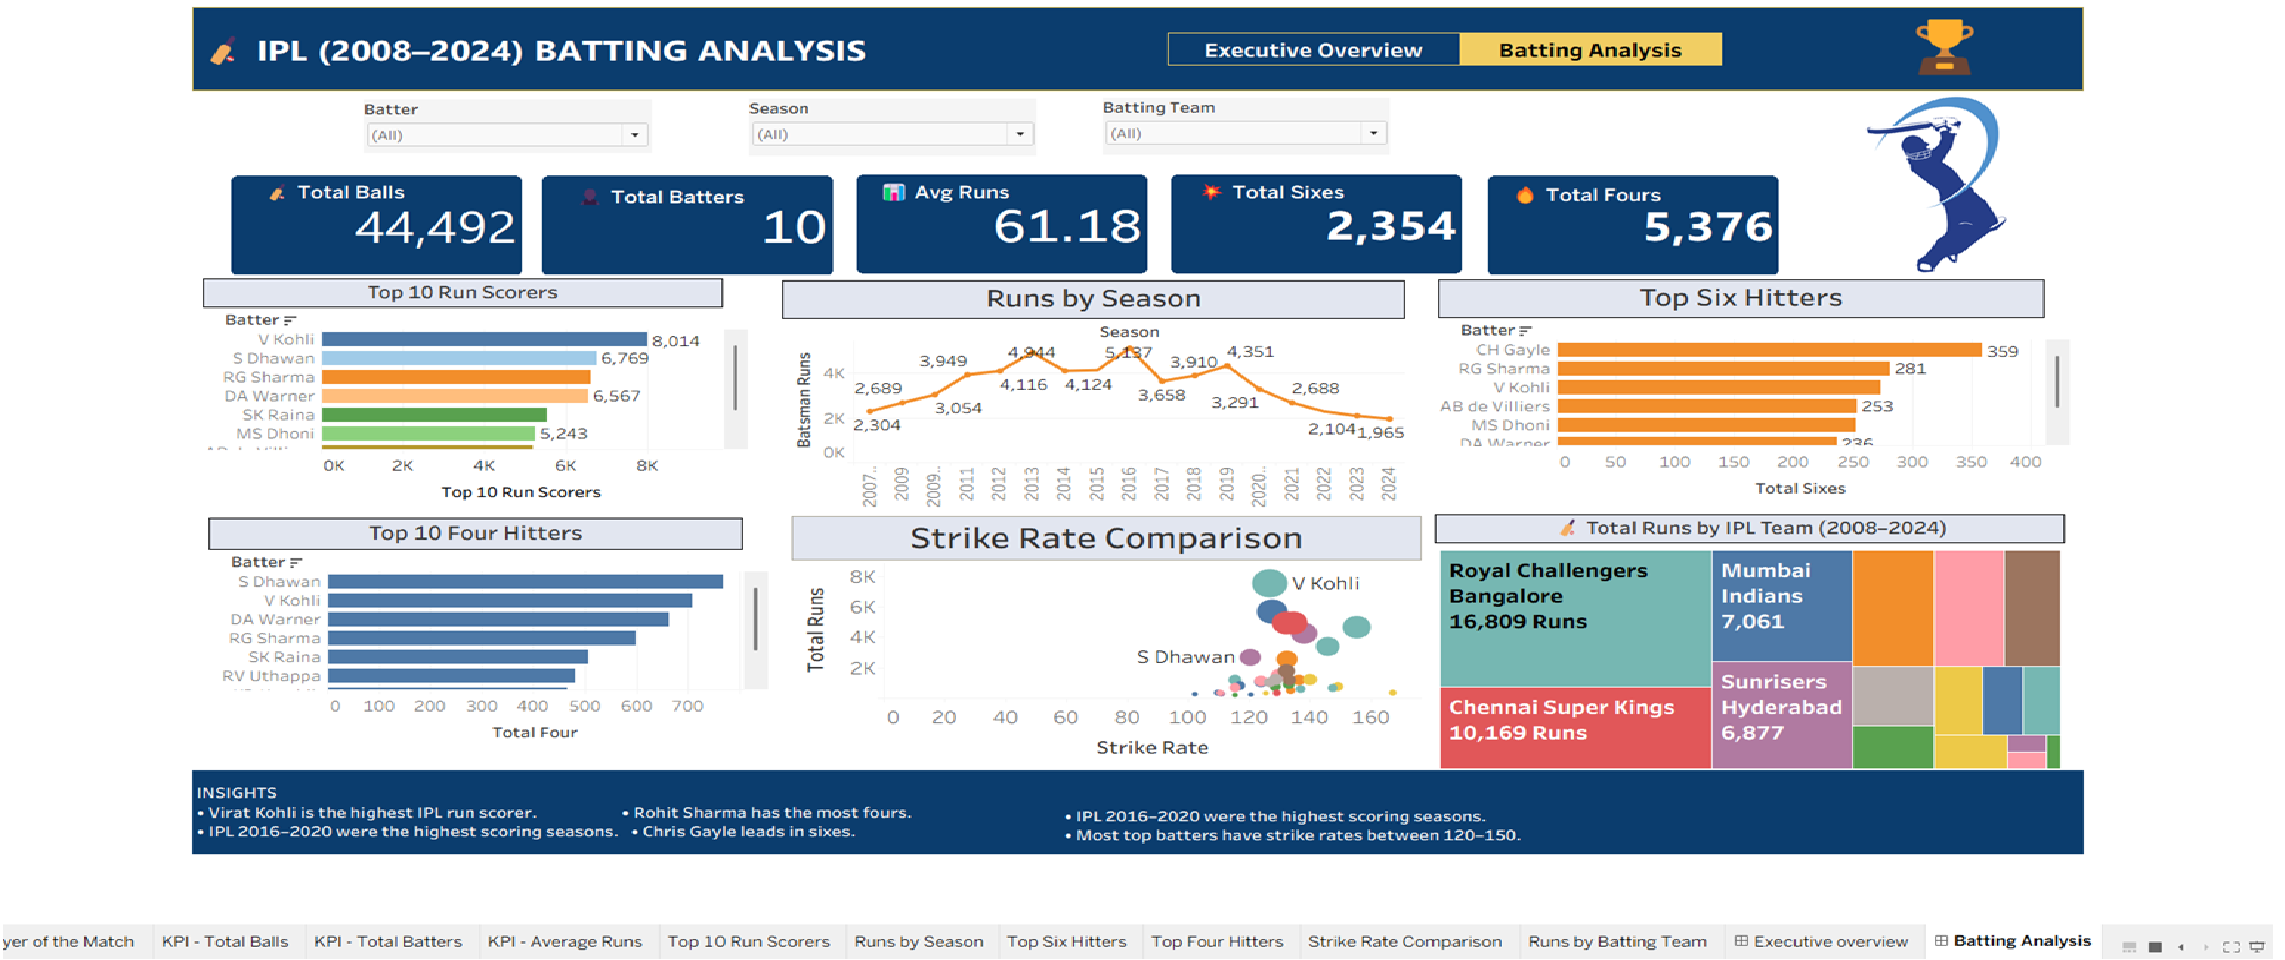

This screenshot's page, from the dashboard's own definition file:
{"tool":"tableau","page":{"name":"Batting Analysis","canvas":[1600,900],"ordinal":0},"visuals":[{"type":"text","box":[1373.9,2.3,219,83.2]},{"type":"dashboard-object","box":[824.6,25.8,249.5,35.2]},{"type":"dashboard-object","box":[1071.7,25.8,222.5,35.2]},{"type":"image","param":"C:/Users/Hp/OneDrive/Pictures/ipl.png","box":[1356.4,89.1,238.9,195.7]},{"type":"filter","title":"Runs by Batting Team","param":"[federated.0j7s8vg1u2kq5l1fg6fl40pm17bg].[none:batting_team:nk]","box":[769.6,94.9,243.6,60.9]},{"type":"filter","title":"Runs by Season","param":"[federated.0j7s8vg1u2kq5l1fg6fl40pm17bg].[none:season:nk]","box":[470.9,96.1,243.6,60.9]},{"type":"filter","title":"Top 10 Run Scorers","param":"[federated.0j7s8vg1u2kq5l1fg6fl40pm17bg].[none:batter:nk]","box":[145.2,97.3,243.6,57.4]},{"type":"worksheet","title":"KPI - Average Runs","mark":"Automatic","box":[562.2,176.9,246,105.5]},{"type":"worksheet","title":"KPI - Total Sixes","mark":"Automatic","box":[828.1,176.9,246,105.5]},{"type":"worksheet","title":"KPI - Total Balls","mark":"Automatic","box":[32.8,178.1,246,105.5]},{"type":"worksheet","title":"KPI - Total Batters","mark":"Automatic","box":[296.3,178.1,246,105.5]},{"type":"worksheet","title":"KPI - Total Fours","mark":"Automatic","box":[1096.3,178.1,246,105.5]},{"type":"text","box":[42.2,180.5,154.6,35.2]},{"type":"text","box":[568.1,180.5,137,35.2]},{"type":"text","box":[835.1,180.5,154.6,35.2]},{"type":"text","box":[1099.9,182.8,158.1,35.2]},{"type":"text","box":[308,185.2,175.7,35.2]},{"type":"worksheet","title":"Top 10 Run Scorers","mark":"Automatic","rows":["batter"],"cols":["batsman_runs"],"box":[9.4,287.1,461.5,244.9]},{"type":"worksheet","title":"Top Six Hitters","mark":"Automatic","rows":["batter"],"cols":["Calculation_0215253610770432"],"box":[1054.2,288.3,534.1,239.1]},{"type":"worksheet","title":"Runs by Season","mark":"Line","rows":["batsman_runs"],"cols":["season"],"box":[499,289.4,527.1,242.6]},{"type":"worksheet","title":"Runs by Batting Team","mark":"Square","box":[1050.7,536.7,532.9,275.4]},{"type":"worksheet","title":"Strike Rate Comparison","mark":"Circle","rows":["total_runs"],"cols":["Calculation_0215253611405316"],"box":[507.2,539.1,532.9,263.7]},{"type":"worksheet","title":"Top Four Hitters","mark":"Automatic","rows":["batter"],"cols":["Calculation_0215253611016193"],"box":[14,541.4,473.2,244.9]},{"type":"text","box":[0,808.6,1600,89.1]},{"type":"text","box":[734.4,836.7,461.5,60.9]}]}

Visuals, with their boxes on the page's 1600x900 design canvas (x1, y1, x2, y2). These are canvas units, not pixel positions in the 2285x960 screenshot, which may show the page scaled, cropped or inside an application window:
text: pyautogui.locateOnScreen(1374, 2, 1593, 86)
dashboard-object: pyautogui.locateOnScreen(825, 26, 1074, 61)
dashboard-object: pyautogui.locateOnScreen(1072, 26, 1294, 61)
image: pyautogui.locateOnScreen(1356, 89, 1595, 285)
"Runs by Batting Team" filter: pyautogui.locateOnScreen(770, 95, 1013, 156)
"Runs by Season" filter: pyautogui.locateOnScreen(471, 96, 714, 157)
"Top 10 Run Scorers" filter: pyautogui.locateOnScreen(145, 97, 389, 155)
"KPI - Average Runs" worksheet: pyautogui.locateOnScreen(562, 177, 808, 282)
"KPI - Total Sixes" worksheet: pyautogui.locateOnScreen(828, 177, 1074, 282)
"KPI - Total Balls" worksheet: pyautogui.locateOnScreen(33, 178, 279, 284)
"KPI - Total Batters" worksheet: pyautogui.locateOnScreen(296, 178, 542, 284)
"KPI - Total Fours" worksheet: pyautogui.locateOnScreen(1096, 178, 1342, 284)
text: pyautogui.locateOnScreen(42, 180, 197, 216)
text: pyautogui.locateOnScreen(568, 180, 705, 216)
text: pyautogui.locateOnScreen(835, 180, 990, 216)
text: pyautogui.locateOnScreen(1100, 183, 1258, 218)
text: pyautogui.locateOnScreen(308, 185, 484, 220)
"Top 10 Run Scorers" worksheet: pyautogui.locateOnScreen(9, 287, 471, 532)
"Top Six Hitters" worksheet: pyautogui.locateOnScreen(1054, 288, 1588, 527)
"Runs by Season" worksheet (Line marks): pyautogui.locateOnScreen(499, 289, 1026, 532)
"Runs by Batting Team" worksheet (Square marks): pyautogui.locateOnScreen(1051, 537, 1584, 812)
"Strike Rate Comparison" worksheet (Circle marks): pyautogui.locateOnScreen(507, 539, 1040, 803)
"Top Four Hitters" worksheet: pyautogui.locateOnScreen(14, 541, 487, 786)
text: pyautogui.locateOnScreen(0, 809, 1600, 898)
text: pyautogui.locateOnScreen(734, 837, 1196, 898)
